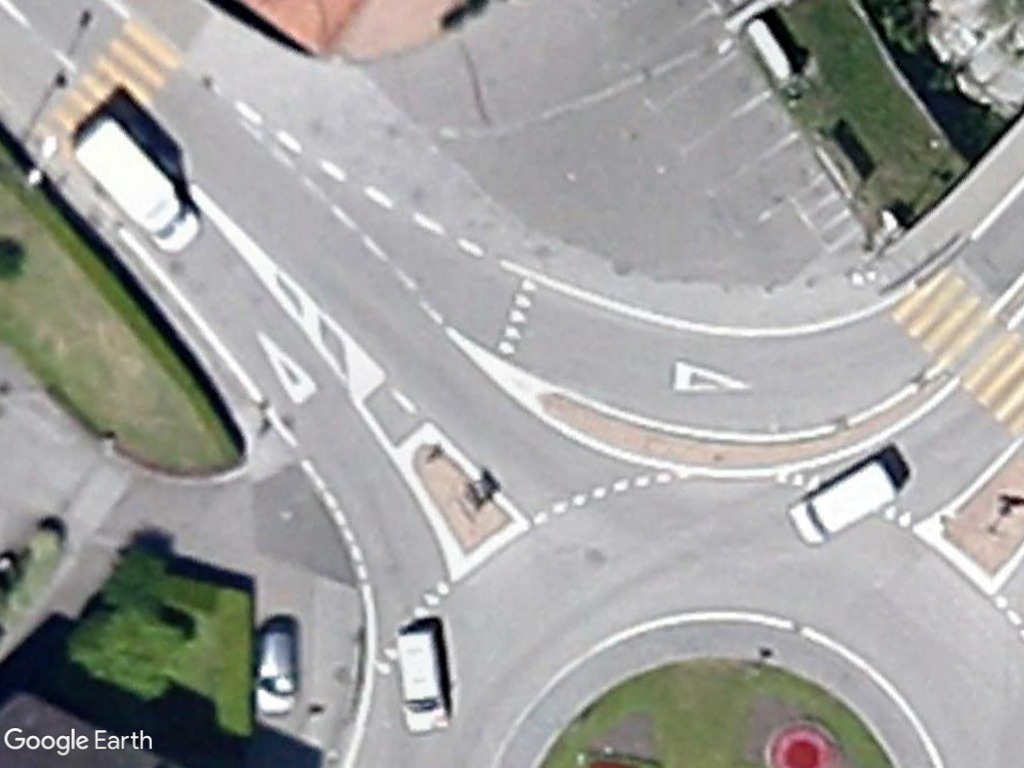car: (396, 625, 453, 736), (252, 619, 302, 719)
truck: (71, 114, 203, 261)
van: (789, 458, 906, 548)
